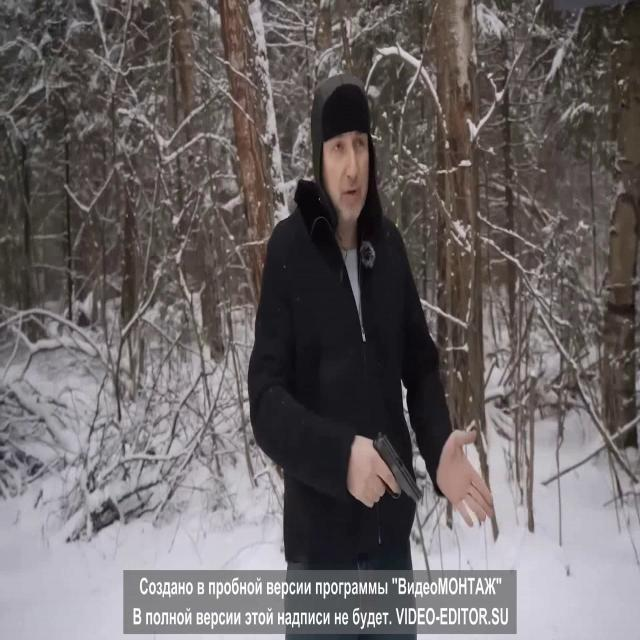pistol: (368, 420, 424, 540)
